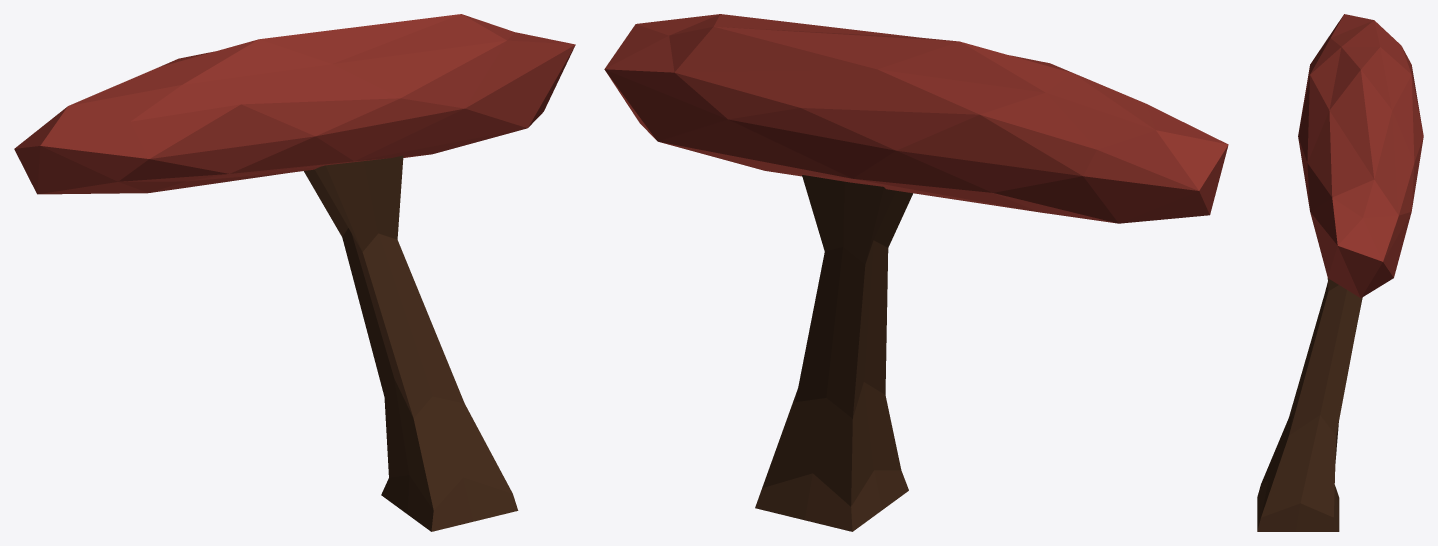
File: Tree_36_Red.fbx
3 views of the same model, side by side, from view 1: azimuth 30°, elevation 25°; view 2: azimuth 150°, elevation 25°; view 3: azimuth 270°, elevation 25° (orthographic). The views are drawn at different scales.
Visible parts, largest first — view 1: Tree_36_Red_Part_1, Tree_36_Red_Part_2; view 2: Tree_36_Red_Part_1, Tree_36_Red_Part_2; view 3: Tree_36_Red_Part_1, Tree_36_Red_Part_2.
Boxes of the visible parts, bbox=[...] form: Tree_36_Red_Part_1: bbox=[14, 14, 575, 194]; Tree_36_Red_Part_2: bbox=[304, 155, 518, 531]; Tree_36_Red_Part_1: bbox=[604, 14, 1228, 223]; Tree_36_Red_Part_2: bbox=[755, 175, 912, 531]; Tree_36_Red_Part_1: bbox=[1298, 14, 1423, 297]; Tree_36_Red_Part_2: bbox=[1257, 278, 1362, 531].
Bounding box in the file's own units: 795 × 675 × 265.
